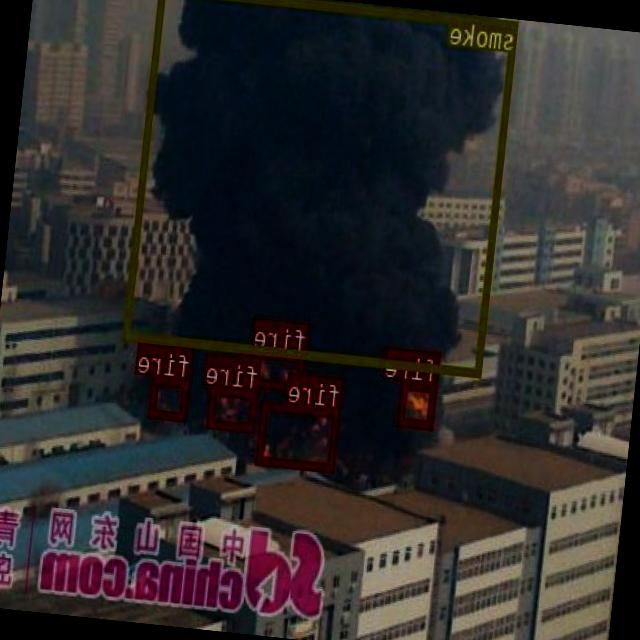fire: (258, 401, 342, 472), (237, 346, 307, 391), (207, 384, 259, 430), (398, 378, 439, 428), (149, 374, 190, 420)
smoke: (124, 0, 519, 376)
